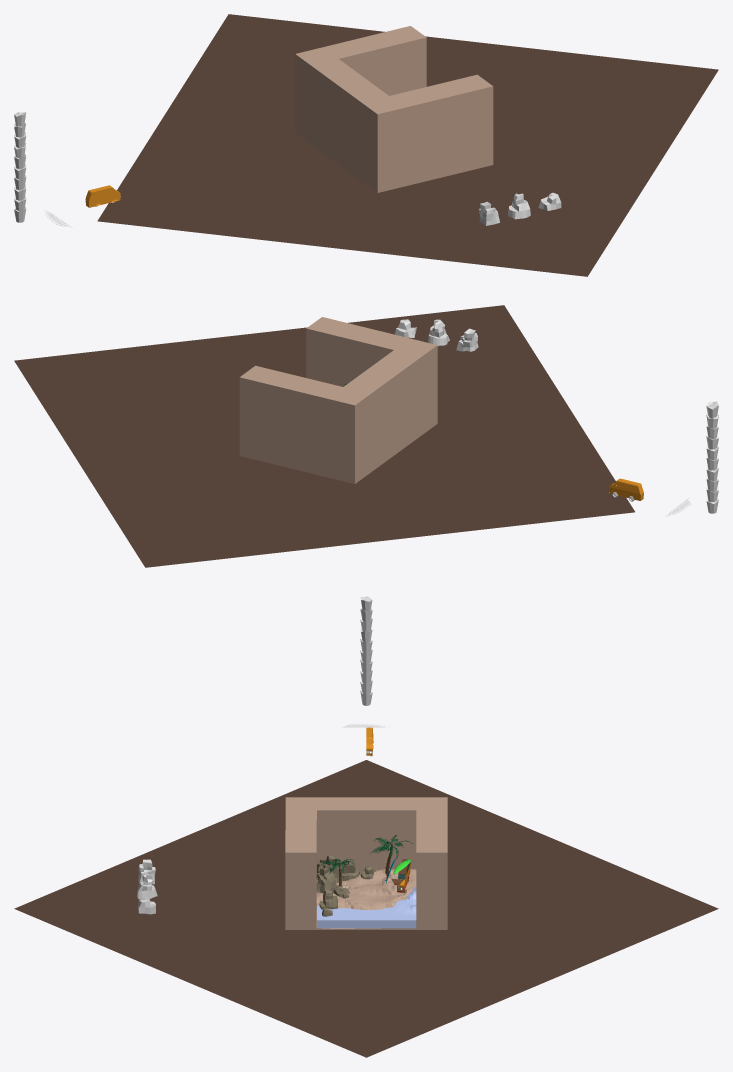
File: Blender-SurferBeach.glb
The picture shows the model from 3 angles, top to bottom: view 1: azimuth 30°, elevation 25°; view 2: azimuth 150°, elevation 25°; view 3: azimuth 270°, elevation 25°; orthographic projection.
Parts seen in each view (by area): view 1: Board, Plane.042, Cylinder.001, Cube.001, Plane.054; view 2: Board, Plane.042, Cylinder.001, Cube.001, Plane.054; view 3: Board, Plane.042, Plane, Plane.041, Cylinder.001, Stone1, Cube.001.
Boxes of the visible parts, <box> form: Board: <box>97,14,718,276</box>; Plane.042: <box>295,26,493,192</box>; Cylinder.001: <box>14,112,26,222</box>; Cube.001: <box>478,192,561,225</box>; Plane.054: <box>85,185,120,207</box>; Board: <box>14,305,634,567</box>; Plane.042: <box>239,317,437,483</box>; Cylinder.001: <box>706,401,718,513</box>; Cube.001: <box>395,319,478,351</box>; Plane.054: <box>609,478,643,500</box>; Board: <box>14,760,718,1057</box>; Plane.042: <box>285,797,447,929</box>; Plane: <box>316,869,416,929</box>; Plane.041: <box>317,887,416,928</box>; Cylinder.001: <box>360,596,372,705</box>; Stone1: <box>316,855,359,893</box>; Cube.001: <box>137,859,157,914</box>.
Size of the model in its own units: 64.08 by 13.62 by 56.57.
